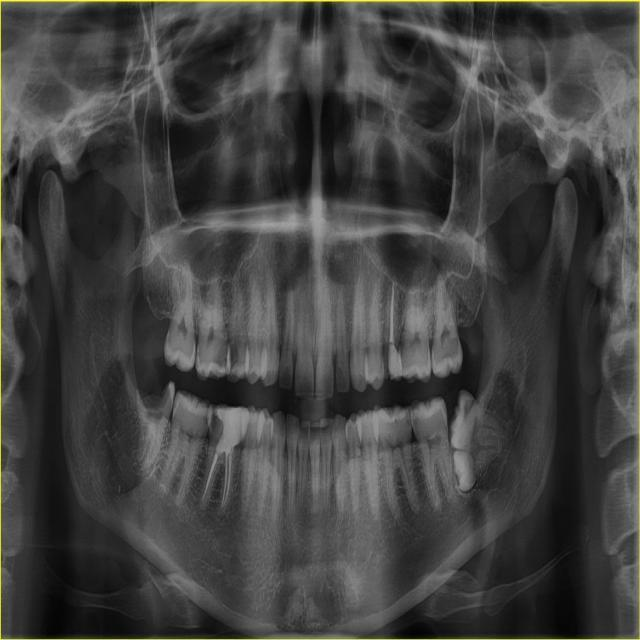74: (200, 454, 219, 503), (222, 455, 234, 509), (389, 278, 397, 343), (221, 453, 229, 508)
Sterngold Implant: (137, 384, 174, 412), (443, 325, 462, 368), (214, 336, 230, 372), (226, 339, 242, 372), (207, 411, 219, 430), (410, 408, 420, 430), (163, 330, 173, 349), (197, 339, 203, 363), (405, 413, 413, 430), (172, 397, 179, 413), (203, 411, 209, 426), (393, 417, 401, 426)
Straumann Implant: (215, 405, 249, 455), (385, 342, 404, 377)
